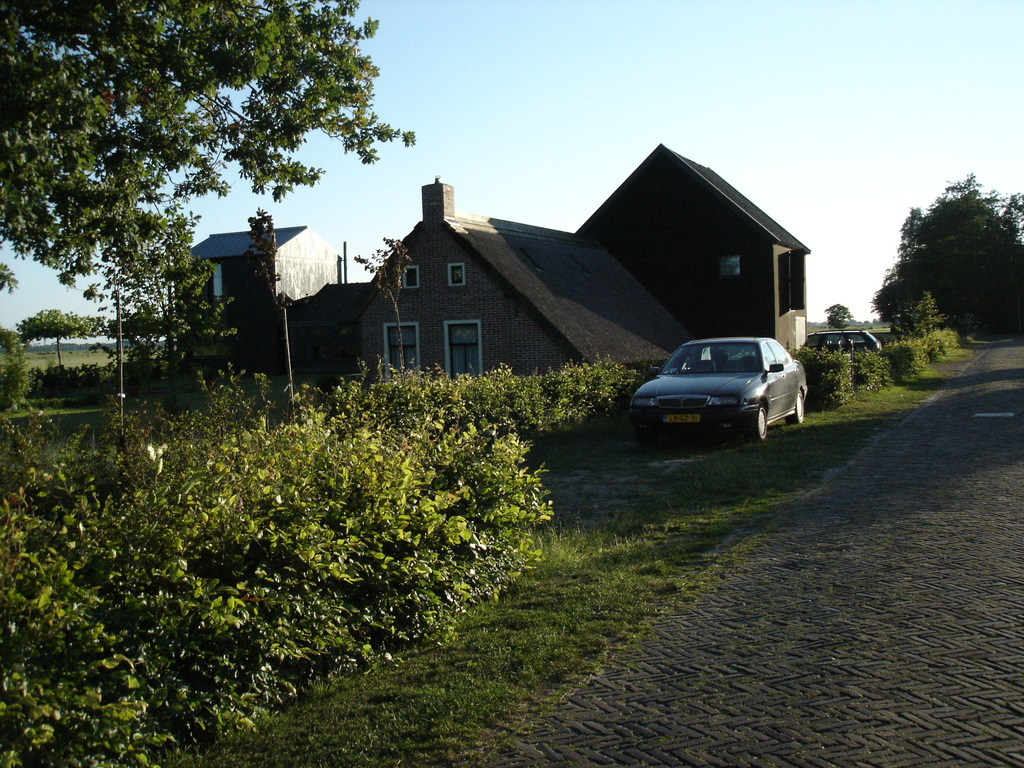Car: (625, 328, 811, 447)
